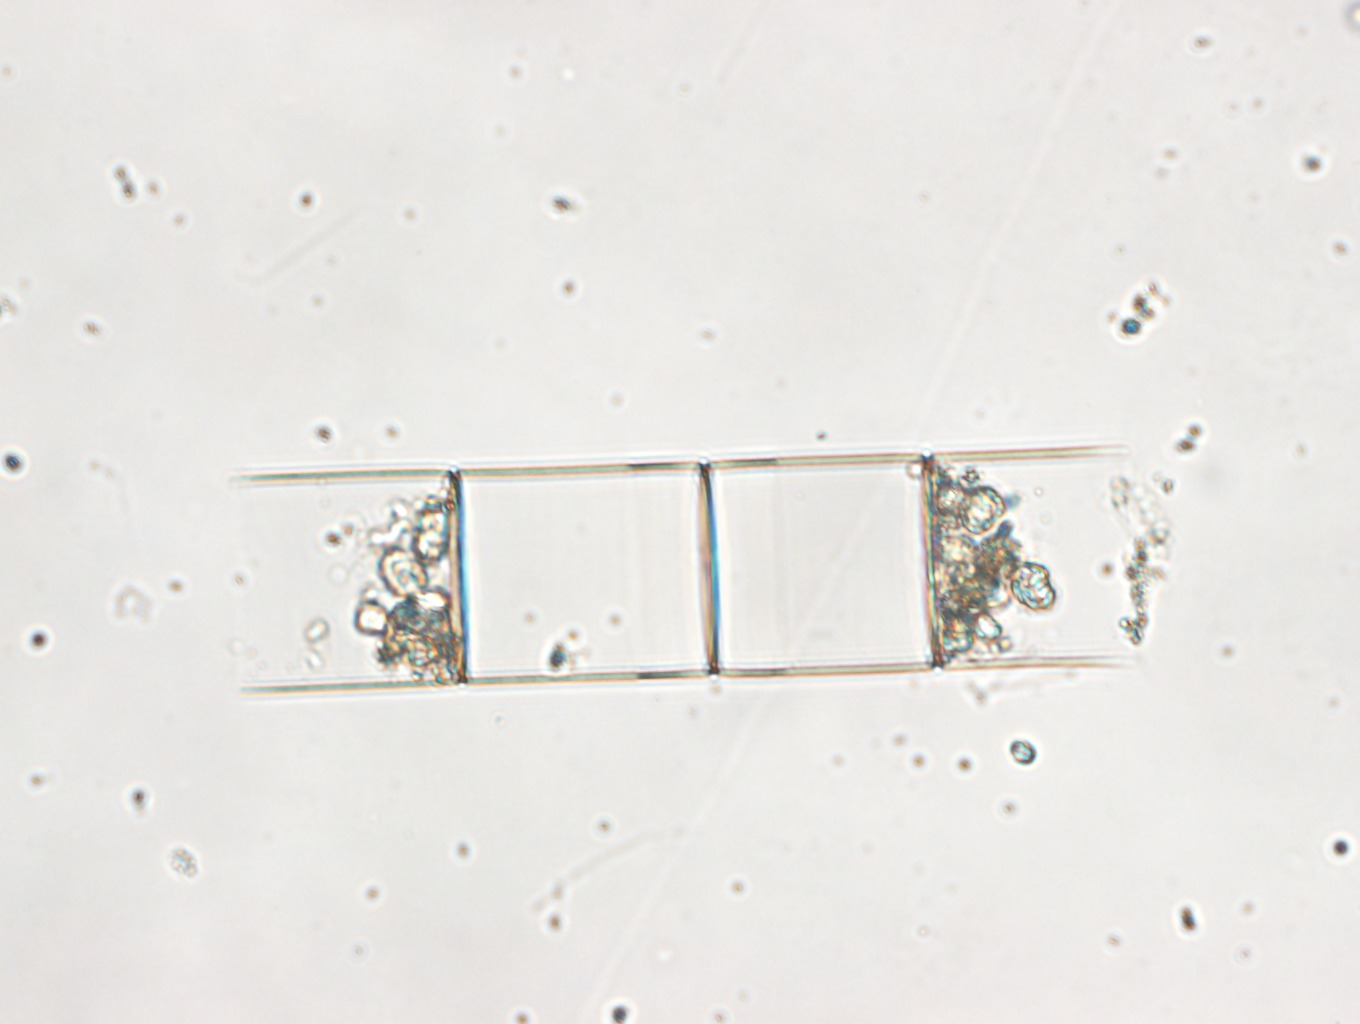guinardia flaccida: (226, 442, 1134, 695)
